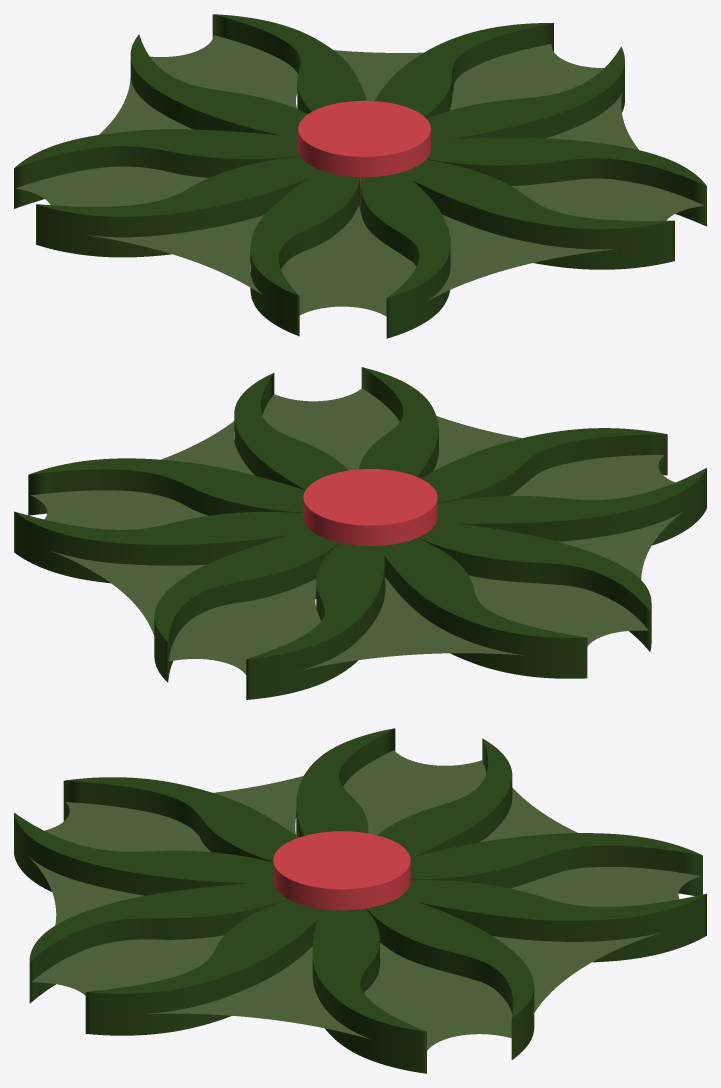
File: asset.glb
3 renders of one model, top to bottom at view 1: azimuth 30°, elevation 25°; view 2: azimuth 150°, elevation 25°; view 3: azimuth 270°, elevation 25°, orthographic. The views are drawn at different scales.
Parts seen in each view (by area): view 1: Curve.005, Curve, Curve.011, Curve.002, Curve.008, Curve.001, Curve.020, Curve.007, Curve.004, Curve.017, Curve.014, Curve.003 (+9 smaller); view 2: Curve.002, Curve.014, Curve.017, Curve.001, Curve.004, Curve.005, Curve.003, Curve.008, Curve.020, Curve.016, Curve.019, Curve.010 (+9 smaller); view 3: Curve.011, Curve.003, Curve.017, Curve, Curve.004, Curve.008, Curve.014, Curve.020, Curve.001, Curve.013, Curve.019, Curve.010 (+9 smaller).
Boxes of the visible parts, <box> form: Curve.005: <box>36,156,323,257</box>; Curve: <box>398,159,674,269</box>; Curve.011: <box>426,137,706,226</box>; Curve.002: <box>14,129,299,208</box>; Curve.008: <box>360,173,450,338</box>; Curve.001: <box>250,170,359,336</box>; Curve.020: <box>298,100,430,208</box>; Curve.007: <box>281,206,416,316</box>; Curve.004: <box>427,46,624,142</box>; Curve.017: <box>130,34,307,138</box>; Curve.014: <box>375,23,553,118</box>; Curve.003: <box>212,14,366,113</box>; Curve.002: <box>378,538,587,678</box>; Curve.014: <box>14,511,309,583</box>; Curve.017: <box>246,543,384,699</box>; Curve.001: <box>437,468,706,545</box>; Curve.004: <box>28,458,305,515</box>; Curve.005: <box>418,522,651,651</box>; Curve.003: <box>154,529,338,682</box>; Curve.008: <box>421,428,667,503</box>; Curve.020: <box>303,469,437,545</box>; Curve.016: <box>169,579,320,674</box>; Curve.019: <box>469,575,648,646</box>; Curve.010: <box>262,388,399,470</box>; Curve.011: <box>85,899,320,1035</box>; Curve.003: <box>401,880,706,962</box>; Curve.017: <box>410,833,702,895</box>; Curve: <box>29,881,287,1003</box>; Curve.004: <box>312,908,426,1073</box>; Curve.008: <box>14,812,273,895</box>; Curve.014: <box>366,896,534,1059</box>; Curve.020: <box>273,831,410,910</box>; Curve.001: <box>63,777,298,862</box>; Curve.013: <box>364,943,511,1050</box>; Curve.019: <box>343,750,486,834</box>; Curve.010: <box>31,935,223,995</box>.
Size of the model in its own units: 2.76 by 0.3561 by 2.66.
